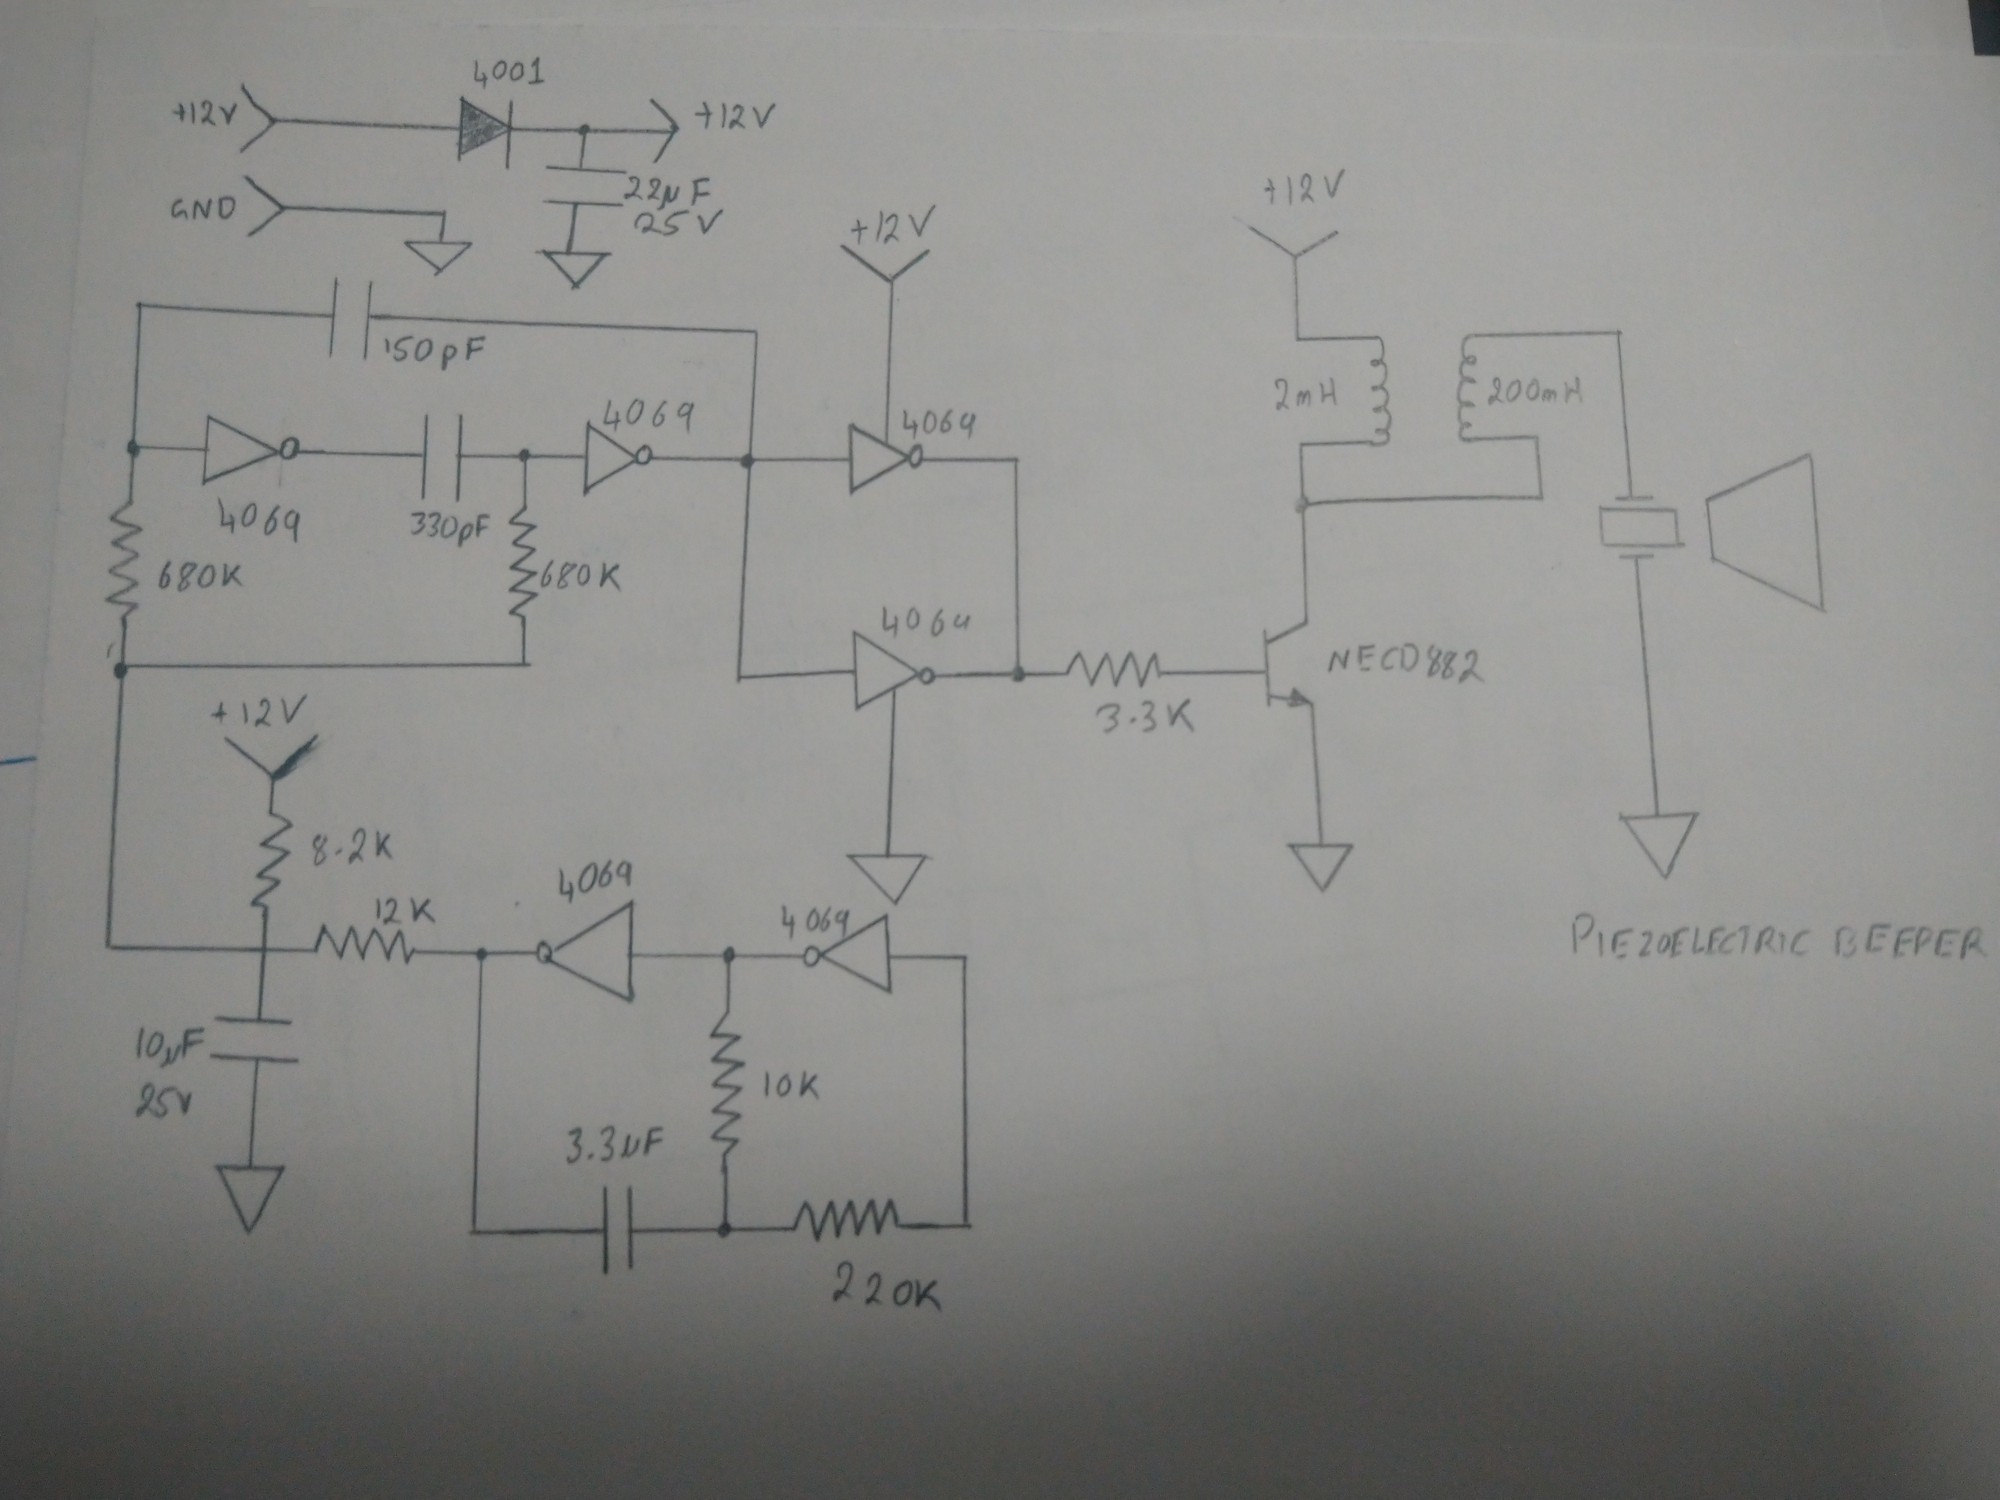capacitor.unpolarized: (203, 1005, 304, 1073), (587, 1179, 647, 1283), (409, 410, 471, 506), (320, 269, 380, 367), (531, 161, 631, 217)
crossover: (250, 937, 283, 964)
diode: (449, 93, 521, 176)
gnd: (206, 1153, 294, 1238), (1616, 807, 1710, 882), (839, 843, 943, 908), (1282, 838, 1357, 897), (534, 246, 616, 295), (402, 235, 477, 279)
inductor: (1361, 329, 1405, 454), (1452, 326, 1480, 447)
junction: (710, 933, 754, 972), (731, 444, 769, 479), (709, 1212, 739, 1245), (572, 115, 605, 143), (742, 318, 775, 347), (951, 942, 981, 972), (104, 655, 137, 682), (1005, 660, 1033, 690), (98, 931, 124, 963), (465, 941, 496, 967), (1290, 488, 1320, 515), (121, 433, 148, 462), (1005, 443, 1030, 473), (463, 1220, 490, 1246), (513, 440, 539, 466), (953, 1213, 980, 1238), (124, 293, 150, 317), (1606, 321, 1631, 343), (513, 654, 537, 674), (728, 668, 750, 689), (1290, 329, 1313, 348), (1531, 485, 1550, 507), (1291, 435, 1310, 454), (1528, 427, 1546, 446), (431, 205, 452, 222)
not: (532, 898, 644, 1008), (797, 909, 896, 999), (847, 626, 942, 715), (198, 410, 302, 488), (841, 418, 926, 499), (576, 418, 658, 501)
resistor: (694, 1005, 751, 1161), (783, 1193, 906, 1249), (99, 495, 150, 626), (1054, 644, 1176, 695), (310, 919, 427, 971), (243, 804, 298, 912), (502, 503, 543, 621)
speaker: (1594, 451, 1839, 619)
terminal: (220, 728, 323, 786), (833, 239, 937, 291), (1236, 217, 1350, 262), (239, 170, 291, 247), (236, 80, 283, 158), (646, 95, 683, 167)
text: (1565, 908, 1995, 971), (825, 1256, 954, 1327), (1324, 640, 1487, 690), (557, 1116, 671, 1172), (202, 684, 309, 730), (1090, 696, 1205, 739), (380, 329, 490, 373), (213, 495, 304, 547), (302, 822, 400, 870), (1482, 369, 1587, 411), (550, 852, 635, 904), (874, 600, 981, 641), (1257, 165, 1354, 208), (406, 506, 494, 551), (846, 202, 939, 244), (598, 397, 702, 433), (153, 556, 247, 596), (134, 1016, 209, 1065), (693, 95, 778, 136), (1268, 373, 1343, 418), (625, 172, 713, 210), (539, 555, 625, 592), (772, 901, 850, 942), (131, 1076, 198, 1123), (896, 407, 981, 443), (631, 210, 728, 241), (466, 52, 550, 88), (756, 1064, 825, 1105), (365, 892, 443, 928), (165, 191, 239, 225), (165, 96, 239, 131)
transistor: (1254, 616, 1332, 717)
